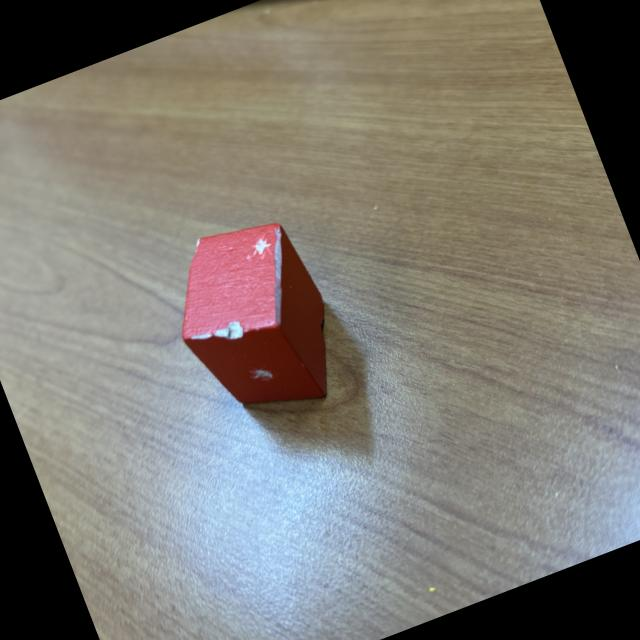broken: (152, 204, 358, 438)
